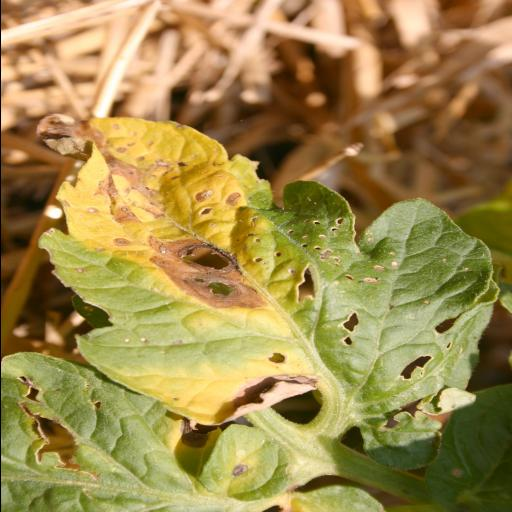disease_tomato: (42, 114, 494, 426)
